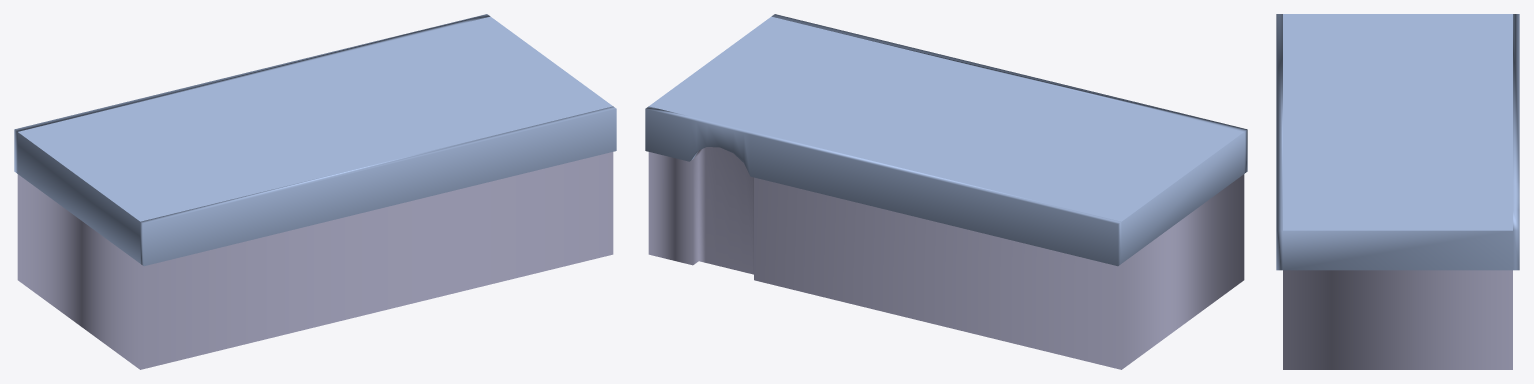
Rendered from Building_A_10.fbx.
3 views of the same model, side by side, from view 1: azimuth 30°, elevation 25°; view 2: azimuth 150°, elevation 25°; view 3: azimuth 270°, elevation 25° (orthographic). The views are drawn at different scales.
Parts seen in each view (by area): view 1: Building_A_10; view 2: Building_A_10; view 3: Building_A_10.
Part boxes in pixels (x1,y1,x2,y2): Building_A_10: (14,14,616,369); Building_A_10: (645,14,1247,369); Building_A_10: (1276,14,1519,369).
Bounding box in the file's own units: 931 × 279 × 442.
